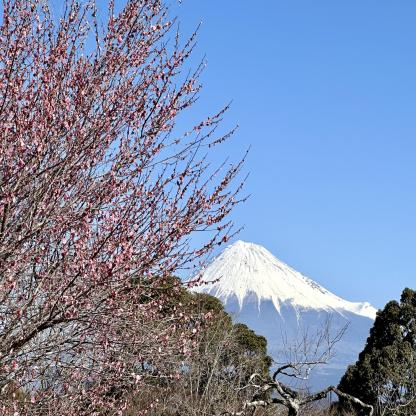Ume: (0, 0, 252, 416)
